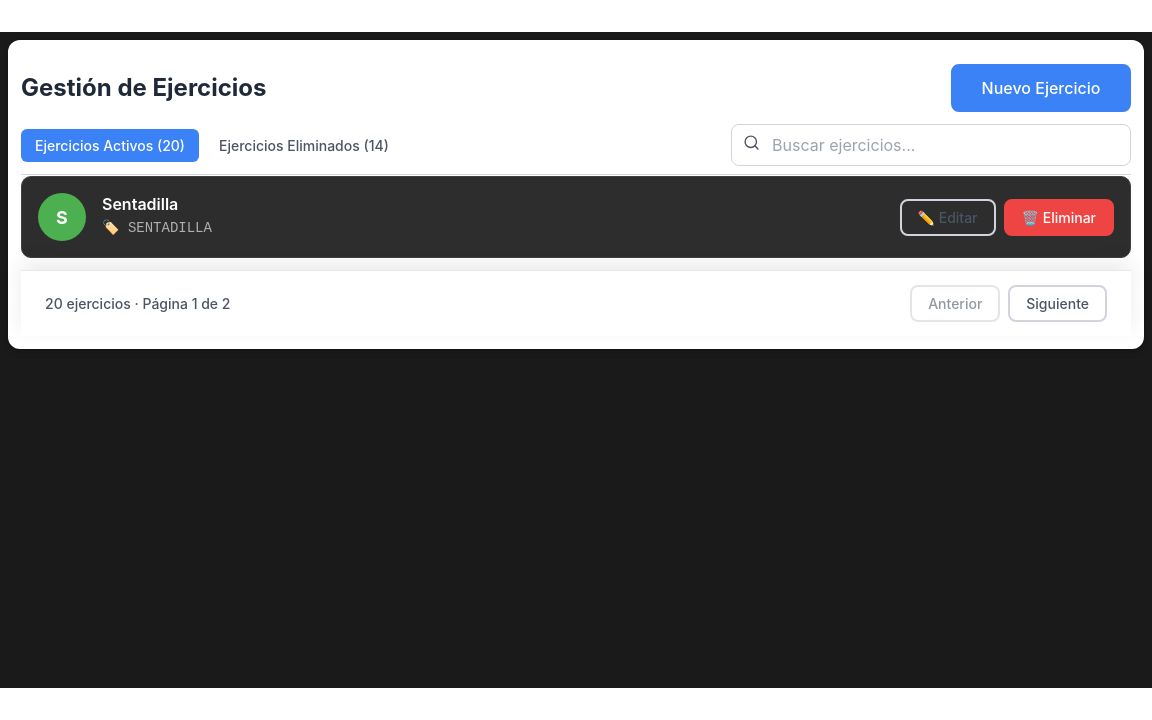
Test: paginación compartida en catálogos › Ejercicios eliminados solicita solamente la página seleccionada
The width and height of the screenshot is (1152, 720).
Click the button "Ejercicios Eliminados (14)" at (304, 145), box [205,128,403,162]
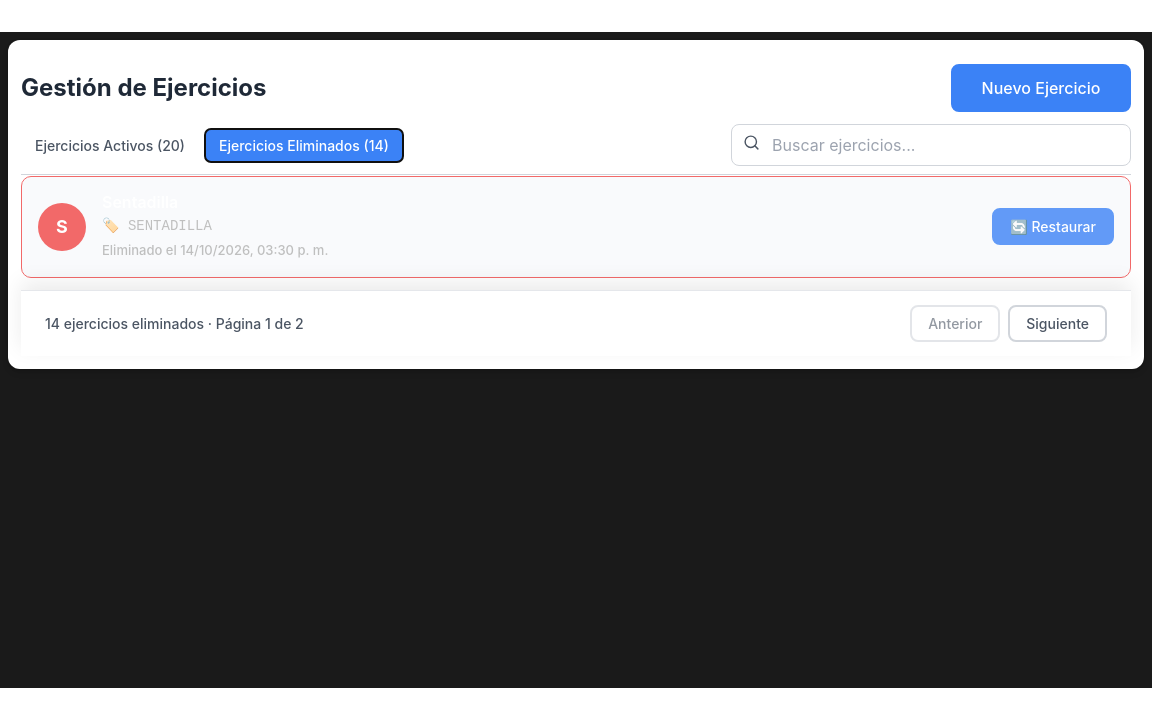
Expected: the text "14 ejercicios eliminados · Página 1 de 2" is shown, [45,313,304,334]
Expected: the text "Eliminado el 14/10/2026, 03:30 p. m." is shown, [102,242,328,258]
Type "SENTADILLA" into the field labelled "Buscar ejercicios" at (931, 145), box [731,124,1131,166]
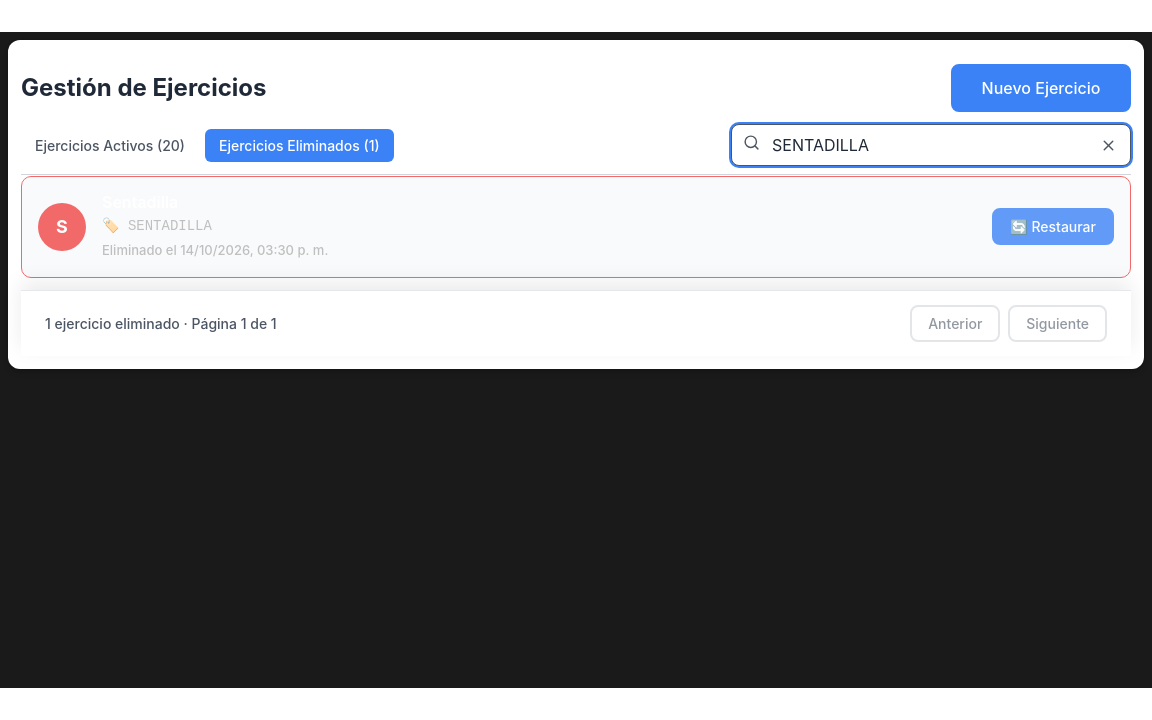
Expected: the text "1 ejercicio eliminado · Página 1 de 1" is shown, [45,313,277,334]
Click the button named "Limpiar búsqueda" at (1108, 145), box [1093,130,1123,160]
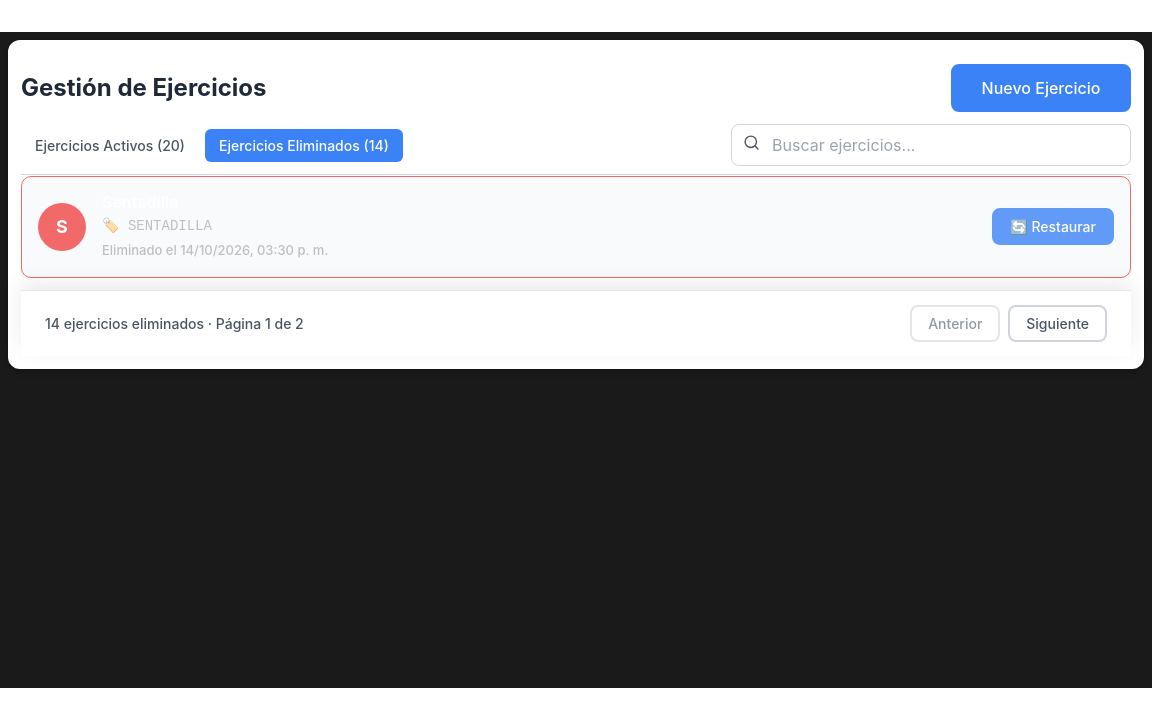
Expected: the text "14 ejercicios eliminados · Página 1 de 2" is shown, [45,313,304,334]
Click the button "Siguiente" at (1058, 323), box [1008,305,1107,342]
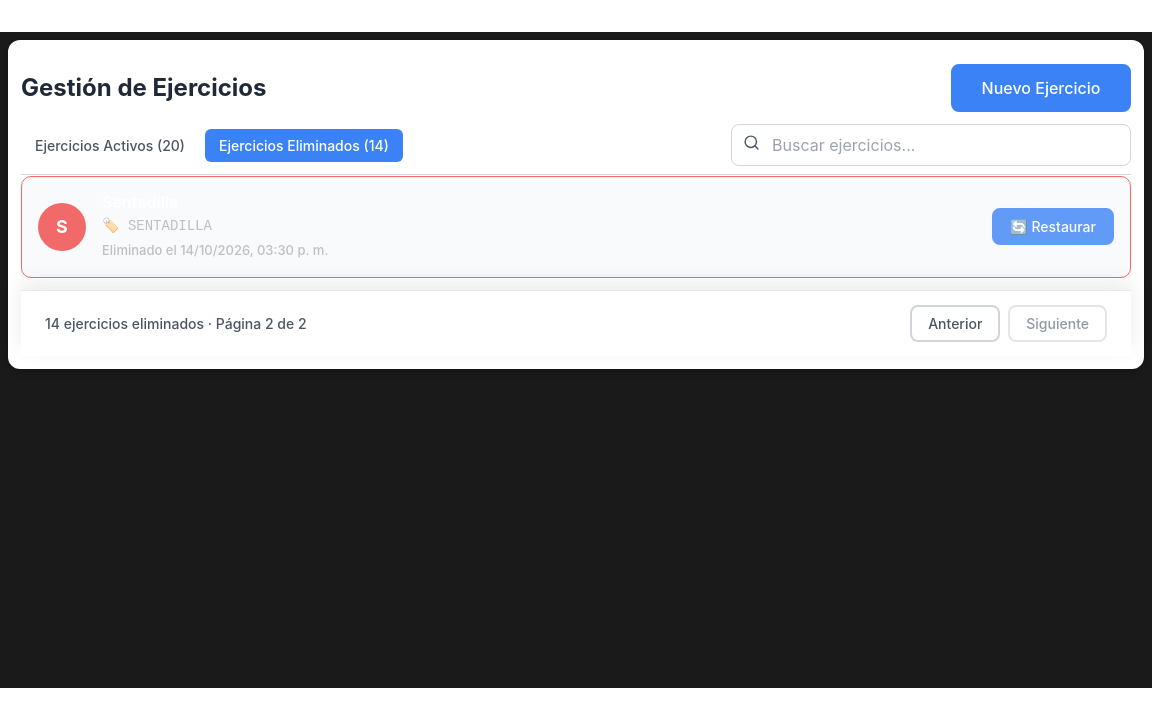
Expected: the text "14 ejercicios eliminados · Página 2 de 2" is shown, [45,313,307,334]
